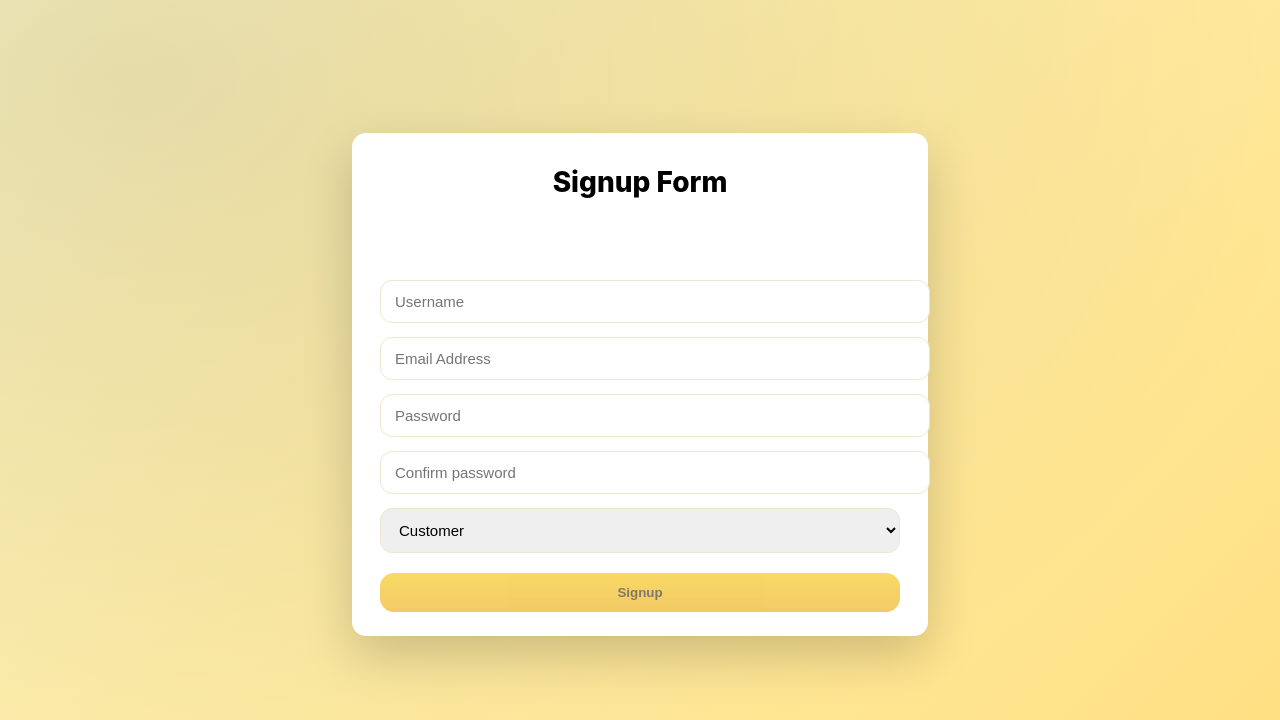
Test: Signup Component › Form Submission Tests › should handle API error without extractApiError return value
Type "testuser" into the field with placeholder "Username" at (655, 301), box [380,280,930,322]
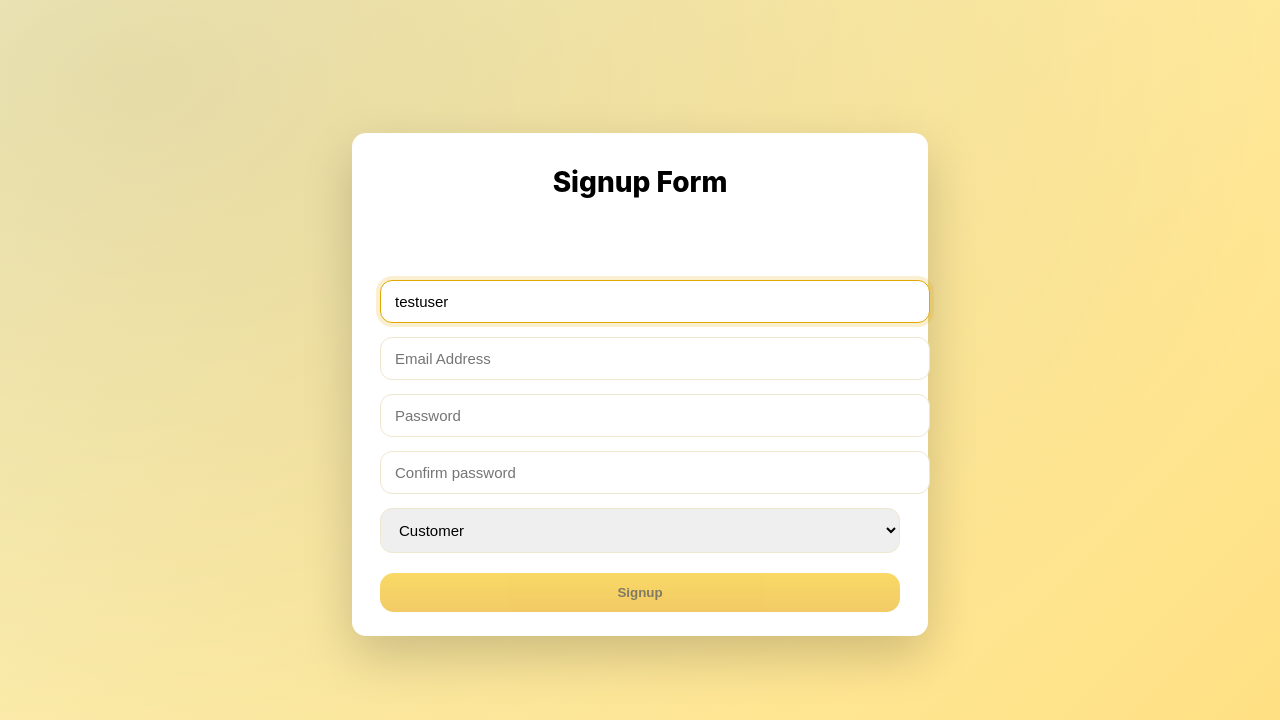
Type "test@example.com" into the field with placeholder "Email Address" at (655, 358), box [380,336,930,380]
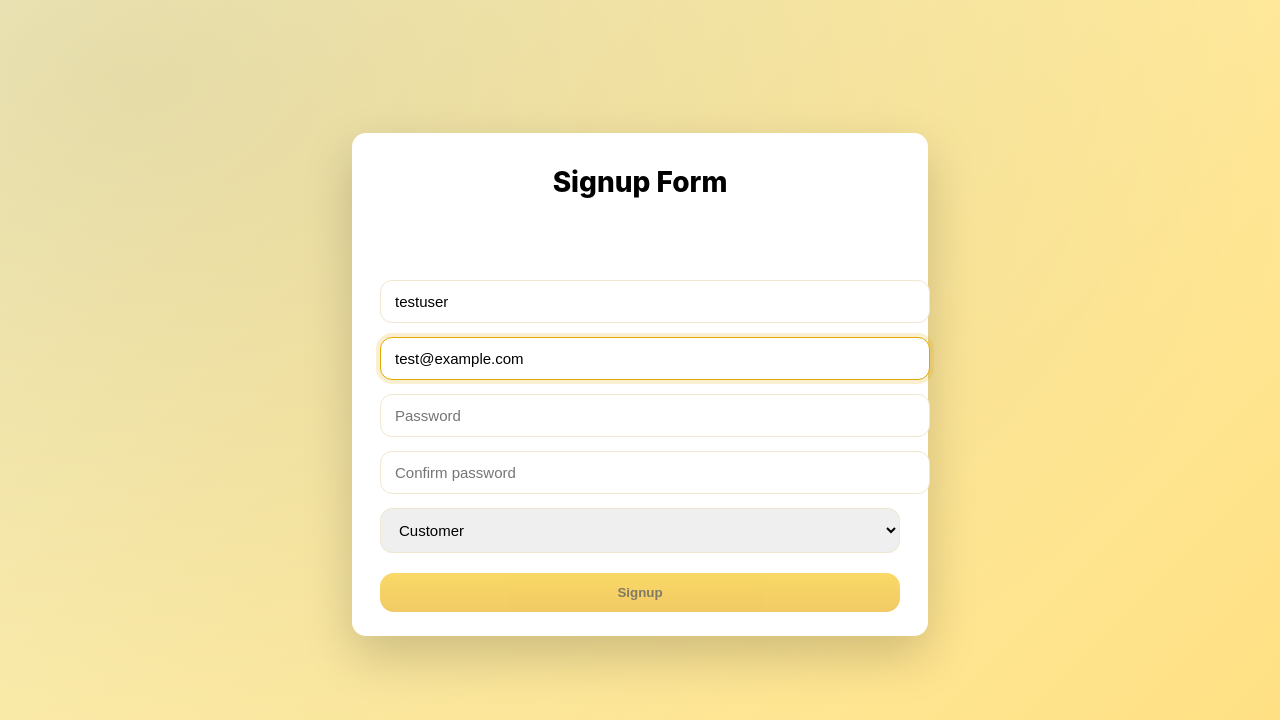
Type "password123" into the password field with placeholder "Password" at (655, 415), box [380,394,930,436]
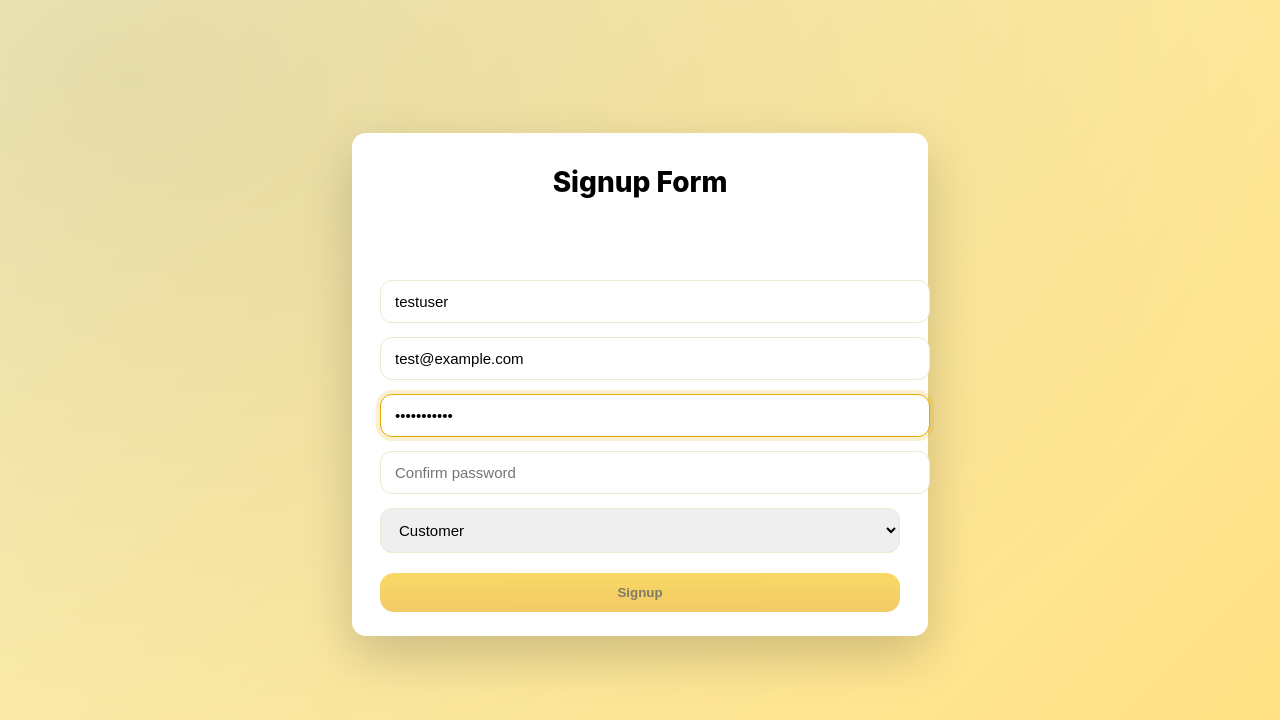
Type "password123" into the password field with placeholder "Confirm password" at (655, 472), box [380,450,930,494]
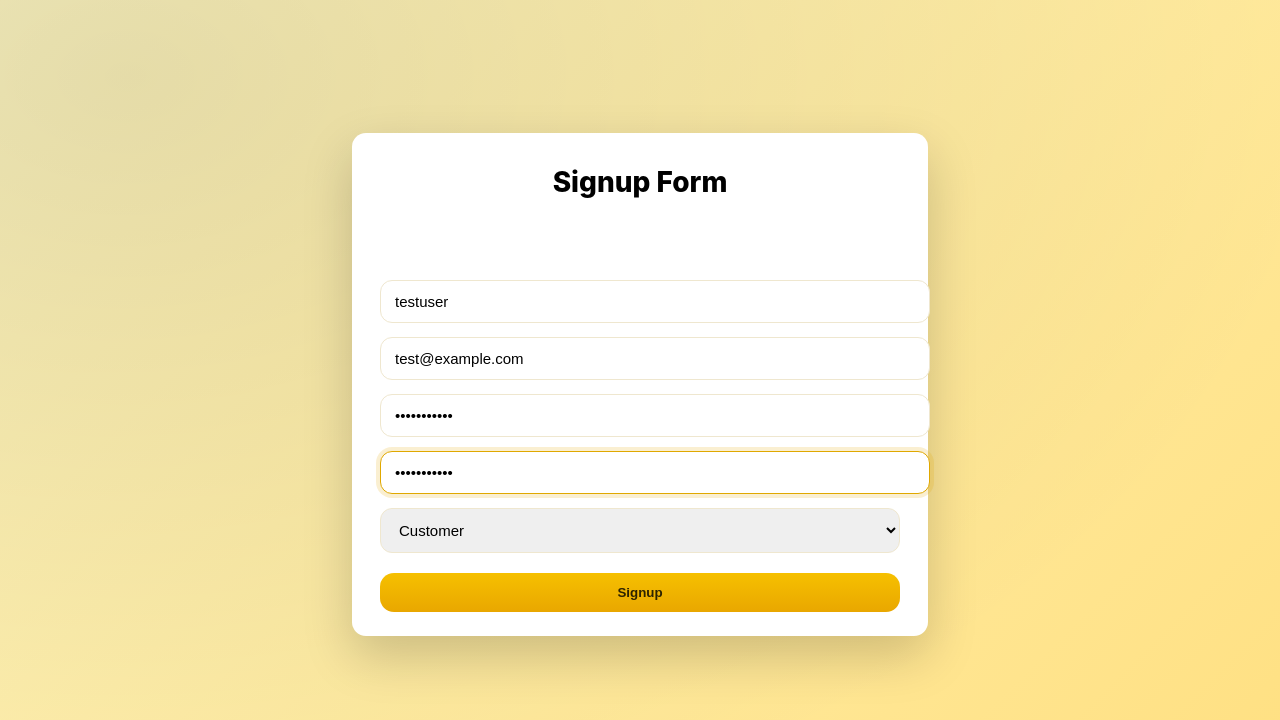
Click the button "Signup" at (640, 592), box [380,572,900,612]
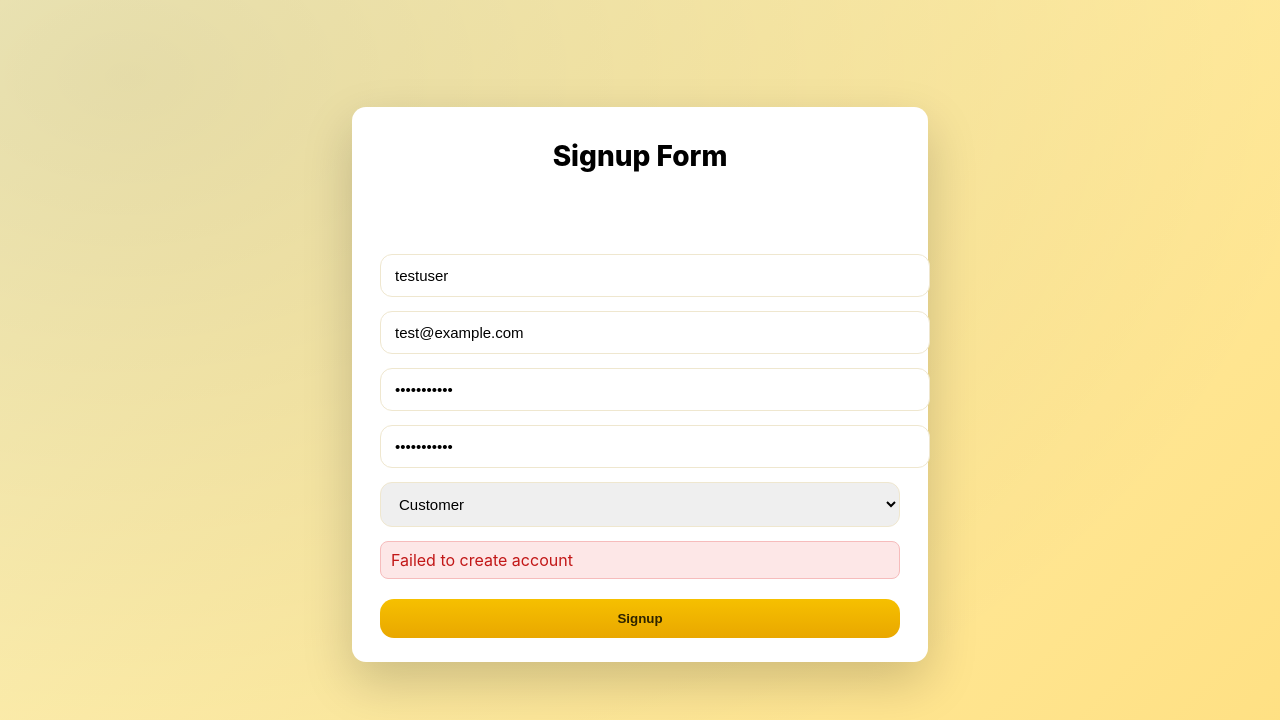
Result: the message reads "Failed to create account" at [391,550,573,570]
